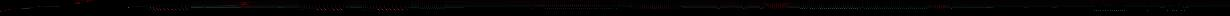Blue cone: (29, 7, 35, 8), (7, 9, 12, 10), (38, 6, 41, 7)
Yellow cone: (763, 3, 793, 9), (929, 5, 948, 9), (236, 2, 252, 6)
